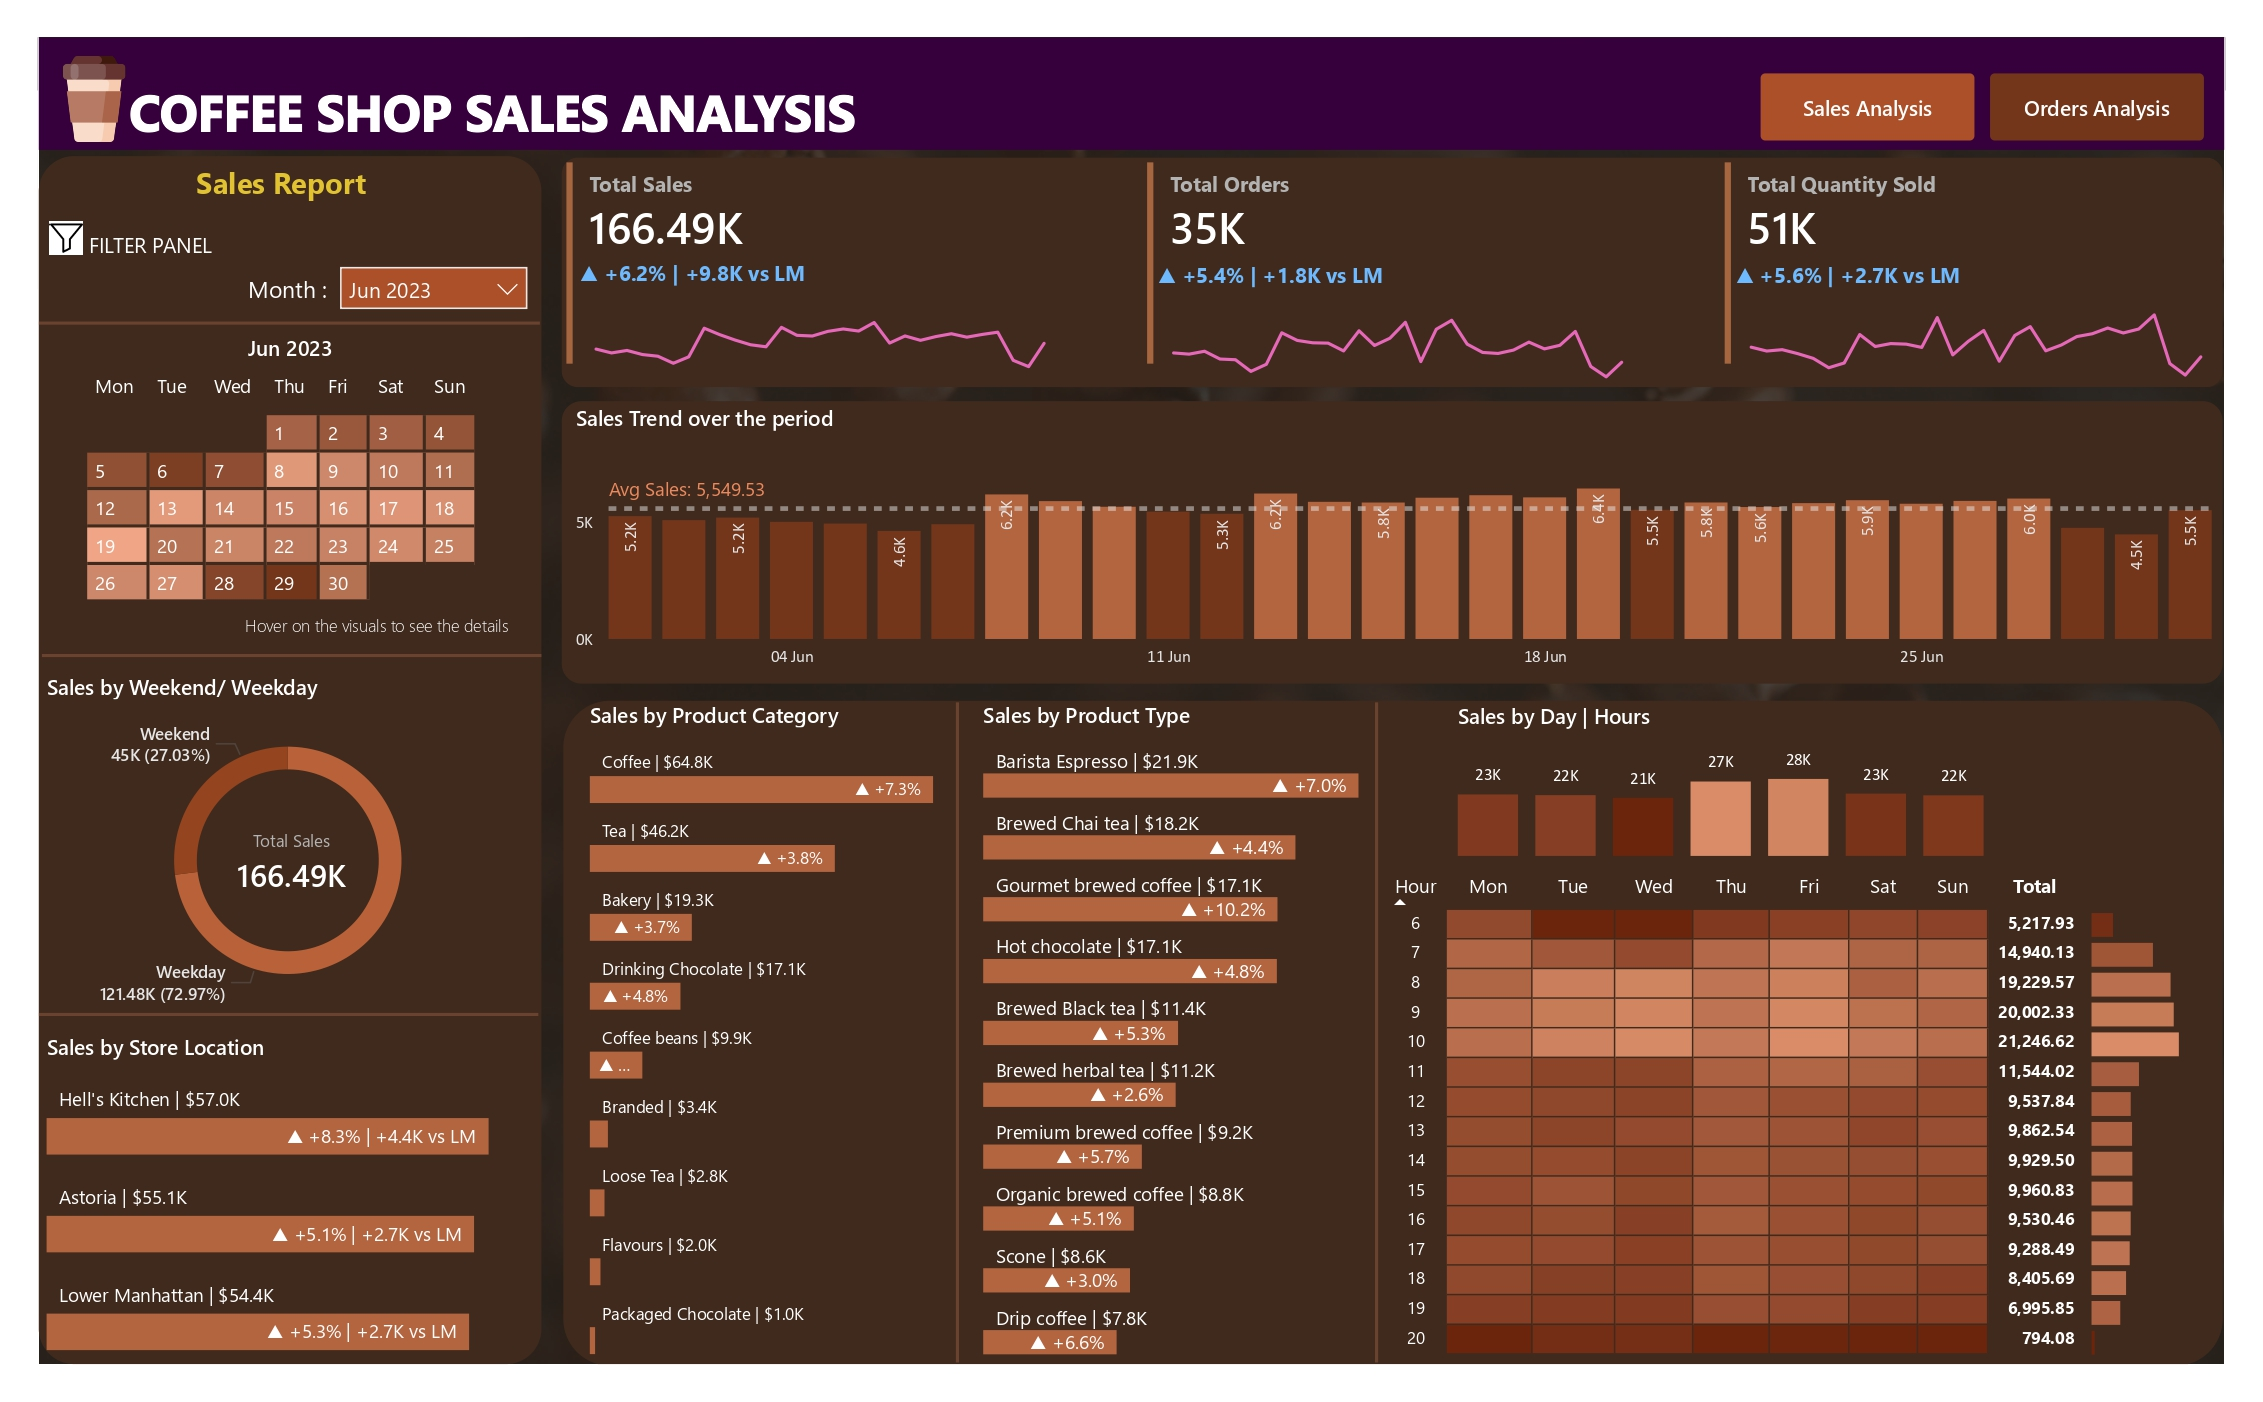

Layout of this report page (visuals, bound fields, positions):
{"tool":"powerbi","page":{"name":"Sales Analysis","canvas":[1400,850],"ordinal":0},"visuals":[{"type":"shape","box":[-7,0,1406.8,71.7],"z":0},{"type":"textbox","box":[53.4,19.7,735,56.2],"z":1000},{"type":"image","box":[0,7,70.3,64.6],"z":2000},{"type":"shape","box":[0,75.9,321.8,774.4],"z":3000},{"type":"shape","box":[334.7,76.5,1064.1,147.1],"z":4000},{"type":"shape","box":[336.2,424.7,1062.6,426.2],"z":5000},{"type":"shape","box":[334.7,232.6,1064.1,181.6],"z":6000},{"type":"cardVisual","fields":{"Data":["Transactions.Total sales"]},"box":[335.9,75.9,267,137.7],"z":7000},{"type":"cardVisual","fields":{"Data":["Transactions.Total orders"]},"box":[707.6,75.9,265.6,137.7],"z":8000},{"type":"cardVisual","fields":{"Data":["Transactions.Total Quantity Sold"]},"box":[1078,75.9,272.7,137.7],"z":9000},{"type":"columnChart","title":"Sales Trend over the period","fields":{"Category":["Transactions.transaction_date"],"Y":["Transactions.Total sales"]},"box":[338.7,234.7,1059.7,178.5],"z":10000},{"type":"pivotTable","fields":{"Columns":["Date Table.Day Name"],"Values":["Min(Date Table.Day Number)"],"Rows":["Date Table.Week Number"]},"box":[1.5,206.6,320.4,185.5],"z":11000},{"type":"lineChart","fields":{"Category":["Date Table.Date.Variation.Date Hierarchy.Year","Date Table.Date.Variation.Date Hierarchy.Quarter","Date Table.Date.Variation.Date Hierarchy.Month","Date Table.Date.Variation.Date Hierarchy.Day"],"Y":["Transactions.Total sales"]},"box":[341.5,142,317.6,81.5],"z":12000},{"type":"lineChart","fields":{"Category":["Date Table.Date.Variation.Date Hierarchy.Year","Date Table.Date.Variation.Date Hierarchy.Quarter","Date Table.Date.Variation.Date Hierarchy.Month","Date Table.Date.Variation.Date Hierarchy.Day"],"Y":["Transactions.Total orders"]},"box":[711.9,143.4,317.6,81],"z":13000},{"type":"lineChart","fields":{"Category":["Date Table.Date.Variation.Date Hierarchy.Year","Date Table.Date.Variation.Date Hierarchy.Quarter","Date Table.Date.Variation.Date Hierarchy.Month","Date Table.Date.Variation.Date Hierarchy.Day"],"Y":["Transactions.Total Quantity Sold"]},"box":[1081.8,142.6,318.2,81],"z":14000},{"type":"clusteredBarChart","title":"Sales by Store Location","fields":{"Category":["Transactions.store_location"],"Y":["Transactions.placeholder","Transactions.Total sales"]},"box":[0,637.9,319.7,211.6],"z":15000},{"type":"donutChart","title":"Sales by Weekend/ Weekday","fields":{"Category":["Date Table.Weekend/ Weekday"],"Y":["Transactions.Total sales"]},"box":[0.1,406.9,319,222.1],"z":16000},{"type":"card","fields":{"Values":["Min(Date Table.Month Year)"]},"box":[94.6,181.6,132.1,39],"z":17000},{"type":"card","fields":{"Values":["Transactions.Foot Note"]},"box":[111.1,359.8,210.8,39.4],"z":18000},{"type":"shape","box":[0,159.1,321.2,48],"z":19000},{"type":"shape","box":[1.5,371.7,320.4,47.8],"z":20000},{"type":"shape","box":[0,601.8,319.7,48],"z":21000},{"type":"shape","box":[427.7,426.2,321.2,423.2],"z":22000},{"type":"shape","box":[696.4,426.2,321.2,423.2],"z":23000},{"type":"cardVisual","fields":{"Data":["Transactions.Total sales"]},"box":[104,498.9,108.2,59],"z":24000},{"type":"textbox","box":[67.5,75,175.6,48],"z":25000},{"type":"textbox","box":[27,118.6,175.6,31.5],"z":26000},{"type":"image","box":[1.5,112.6,31.5,31.5],"z":27000},{"type":"clusteredBarChart","title":"Sales by Product Category","fields":{"Y":["Transactions.placeholder","Transactions.Total sales"],"Category":["Transactions.product_category"]},"box":[348.2,424.7,258.1,424.7],"z":28000},{"type":"pivotTable","fields":{"Rows":["Transactions.Hour_1"],"Columns":["Date Table.Day Name"],"Values":["Transactions.Total sales"]},"box":[858.5,529.8,466.8,319.7],"z":29000},{"type":"clusteredBarChart","title":"Sales by Product Type","fields":{"Y":["Transactions.placeholder","Transactions.Total sales"],"Category":["Transactions.product_type"]},"box":[600.3,424.7,283.7,424.7],"z":30000},{"type":"barChart","fields":{"Y":["Transactions.Total sales"],"Category":["Transactions.Hour_1"]},"box":[1310.3,547.8,88.6,301.7],"z":31000},{"type":"clusteredColumnChart","title":"Sales by Day | Hours","fields":{"Category":["Date Table.Day Name"],"Y":["Transactions.Total sales"]},"box":[903.5,426.2,348.2,103.6],"z":32000},{"type":"pageNavigator","box":[1103.1,22.5,285.2,43.5],"z":33000},{"type":"slicer","fields":{"Values":["Date Table.Month Year"]},"box":[183.1,136.6,139.6,55.5],"z":34000},{"type":"textbox","box":[129.1,145.6,64.5,48],"z":35000}]}

Visuals, with their boxes in screenshot pixels (x1, y1, x2, y2), scaled from the page's 1400x850 canvas onto the 2263x1402 screenshot:
shape: {"x1": 0, "y1": 0, "x2": 2262, "y2": 118}
textbox: {"x1": 86, "y1": 32, "x2": 1274, "y2": 125}
image: {"x1": 0, "y1": 12, "x2": 114, "y2": 118}
shape: {"x1": 0, "y1": 125, "x2": 520, "y2": 1401}
shape: {"x1": 541, "y1": 126, "x2": 2261, "y2": 369}
shape: {"x1": 543, "y1": 701, "x2": 2261, "y2": 1401}
shape: {"x1": 541, "y1": 384, "x2": 2261, "y2": 683}
cardVisual - Transactions.Total sales: {"x1": 543, "y1": 125, "x2": 975, "y2": 352}
cardVisual - Transactions.Total orders: {"x1": 1144, "y1": 125, "x2": 1573, "y2": 352}
cardVisual - Transactions.Total Quantity Sold: {"x1": 1743, "y1": 125, "x2": 2183, "y2": 352}
"Sales Trend over the period" columnChart: {"x1": 547, "y1": 387, "x2": 2260, "y2": 682}
pivotTable - Date Table.Day Name x Min(Date Table.Day Number): {"x1": 2, "y1": 341, "x2": 520, "y2": 647}
lineChart - Date Table.Date.Variation.Date Hierarchy.Year x Date Table.Date.Variation.Date Hierarchy.Quarter: {"x1": 552, "y1": 234, "x2": 1065, "y2": 369}
lineChart - Date Table.Date.Variation.Date Hierarchy.Year x Date Table.Date.Variation.Date Hierarchy.Quarter: {"x1": 1151, "y1": 237, "x2": 1664, "y2": 370}
lineChart - Date Table.Date.Variation.Date Hierarchy.Year x Date Table.Date.Variation.Date Hierarchy.Quarter: {"x1": 1749, "y1": 235, "x2": 2262, "y2": 369}
"Sales by Store Location" clusteredBarChart: {"x1": 0, "y1": 1052, "x2": 517, "y2": 1401}
"Sales by Weekend/ Weekday" donutChart: {"x1": 0, "y1": 671, "x2": 516, "y2": 1037}
card - Min(Date Table.Month Year): {"x1": 153, "y1": 300, "x2": 366, "y2": 364}
card - Transactions.Foot Note: {"x1": 180, "y1": 593, "x2": 520, "y2": 658}
shape: {"x1": 0, "y1": 262, "x2": 519, "y2": 342}
shape: {"x1": 2, "y1": 613, "x2": 520, "y2": 692}
shape: {"x1": 0, "y1": 993, "x2": 517, "y2": 1072}
shape: {"x1": 691, "y1": 703, "x2": 1211, "y2": 1401}
shape: {"x1": 1126, "y1": 703, "x2": 1645, "y2": 1401}
cardVisual - Transactions.Total sales: {"x1": 168, "y1": 823, "x2": 343, "y2": 920}
textbox: {"x1": 109, "y1": 124, "x2": 393, "y2": 203}
textbox: {"x1": 44, "y1": 196, "x2": 327, "y2": 248}
image: {"x1": 2, "y1": 186, "x2": 53, "y2": 238}
"Sales by Product Category" clusteredBarChart: {"x1": 563, "y1": 701, "x2": 980, "y2": 1401}
pivotTable - Transactions.Hour_1 x Date Table.Day Name: {"x1": 1388, "y1": 874, "x2": 2142, "y2": 1401}
"Sales by Product Type" clusteredBarChart: {"x1": 970, "y1": 701, "x2": 1429, "y2": 1401}
barChart - Transactions.Total sales x Transactions.Hour_1: {"x1": 2118, "y1": 904, "x2": 2261, "y2": 1401}
"Sales by Day | Hours" clusteredColumnChart: {"x1": 1460, "y1": 703, "x2": 2023, "y2": 874}
pageNavigator: {"x1": 1783, "y1": 37, "x2": 2244, "y2": 109}
slicer - Date Table.Month Year: {"x1": 296, "y1": 225, "x2": 522, "y2": 317}
textbox: {"x1": 209, "y1": 240, "x2": 313, "y2": 319}
